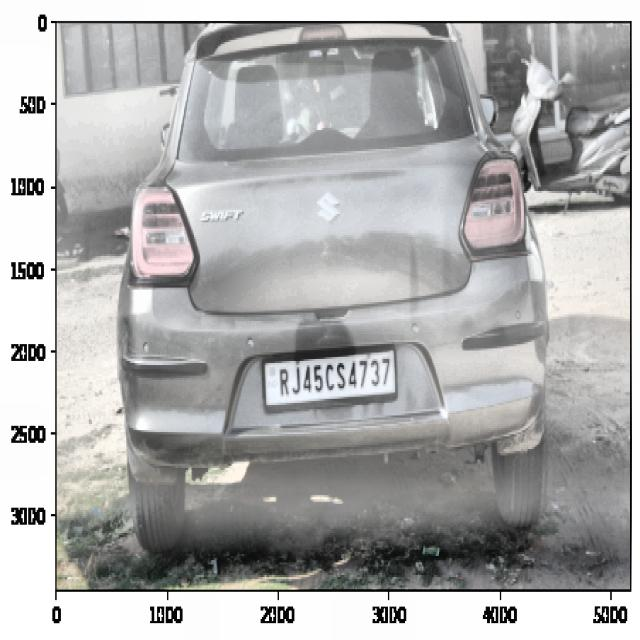license_plate: (276, 352, 394, 401)
